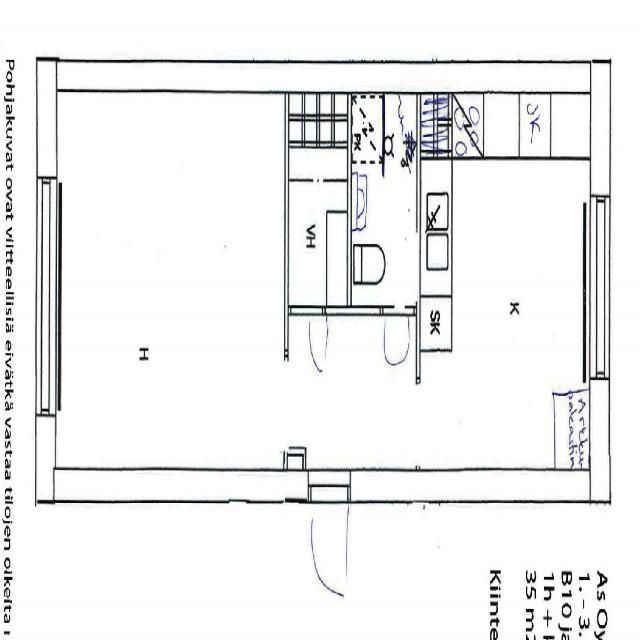door: (311, 470, 349, 583), (386, 306, 406, 360), (304, 306, 324, 358)
